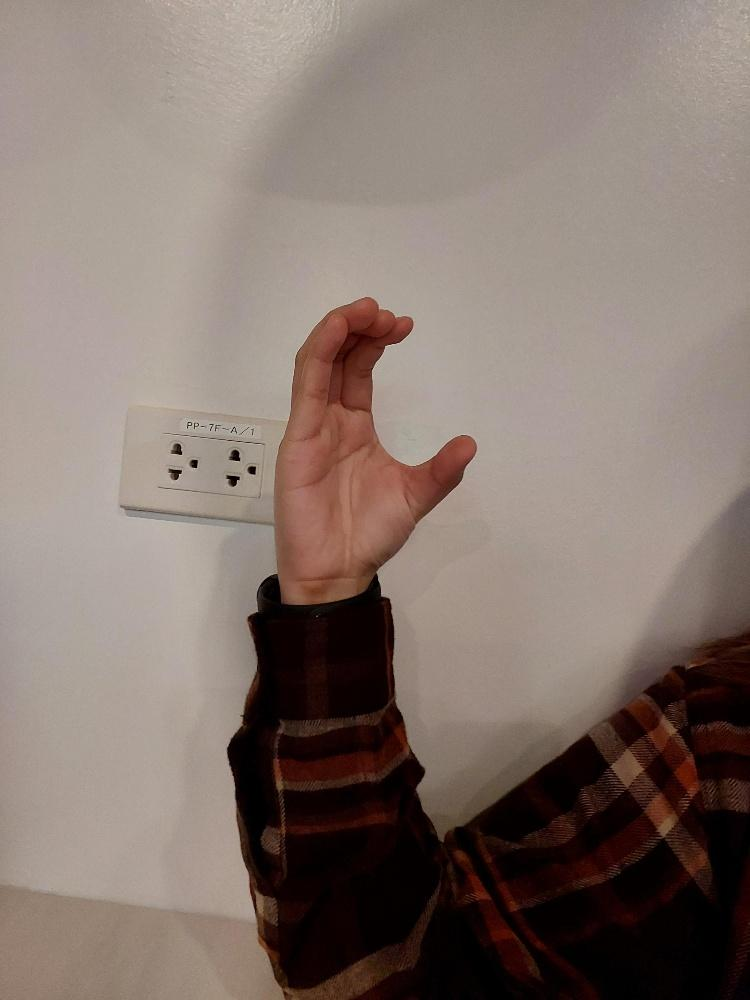c: (265, 287, 488, 590)
